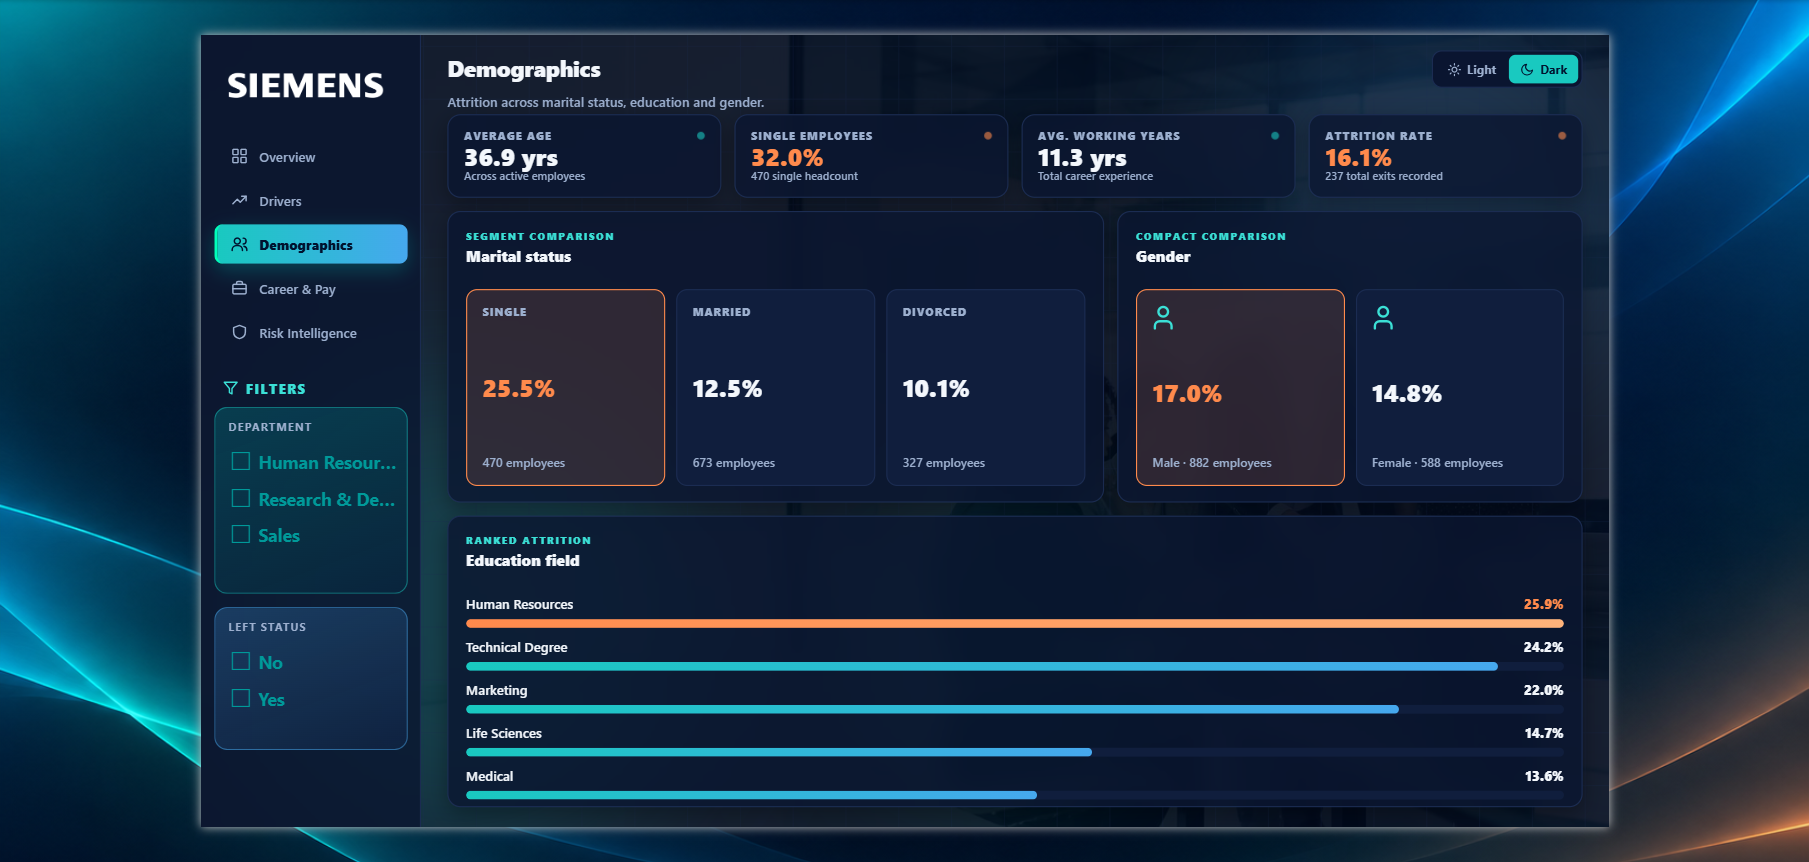

The dashboard page shown, as its layout file describes it:
{"tool":"powerbi","page":{"name":"Demographic Page","canvas":[1280,720],"ordinal":3},"visuals":[{"type":"htmlContent443BE3AD55E043BF878BED274D3A6855","fields":{"content":["HTML Visuals.Demographics_Page"]},"box":[0,0,1280,720],"z":0},{"type":"actionButton","title":"Risk Intelligence","box":[12,252,176,36],"z":1000},{"type":"actionButton","title":"Career & Pay","box":[12,212,176,36],"z":2000},{"type":"actionButton","title":"Drivers","box":[12,132,176,36],"z":3000},{"type":"actionButton","title":"Overview","box":[12,92,176,36],"z":4000},{"type":"slicer","title":"Left Status Slicer","fields":{"Values":["fact_attrition.attrition"]},"box":[20,554,160,84],"z":4001},{"type":"slicer","title":"Department Slicer","fields":{"Values":["dim_department.department"]},"box":[20,372,160,124],"z":4002}]}

Visuals, with their boxes on the page's 1280x720 design canvas (x1, y1, x2, y2). These are canvas units, not pixel positions in the 1809x862 screenshot, which may show the page scaled, cropped or inside an application window:
htmlContent443BE3AD55E043BF878BED274D3A6855 - HTML Visuals.Demographics_Page: 0 0 1280 720
"Risk Intelligence" actionButton: 12 252 188 288
"Career & Pay" actionButton: 12 212 188 248
"Drivers" actionButton: 12 132 188 168
"Overview" actionButton: 12 92 188 128
"Left Status Slicer" slicer: 20 554 180 638
"Department Slicer" slicer: 20 372 180 496
